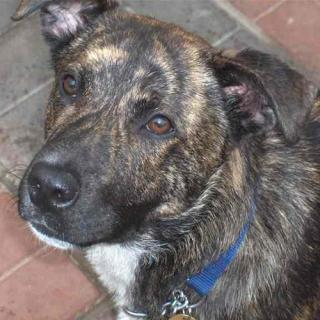dog: (14, 9, 293, 250)
nose: (24, 152, 80, 213)
